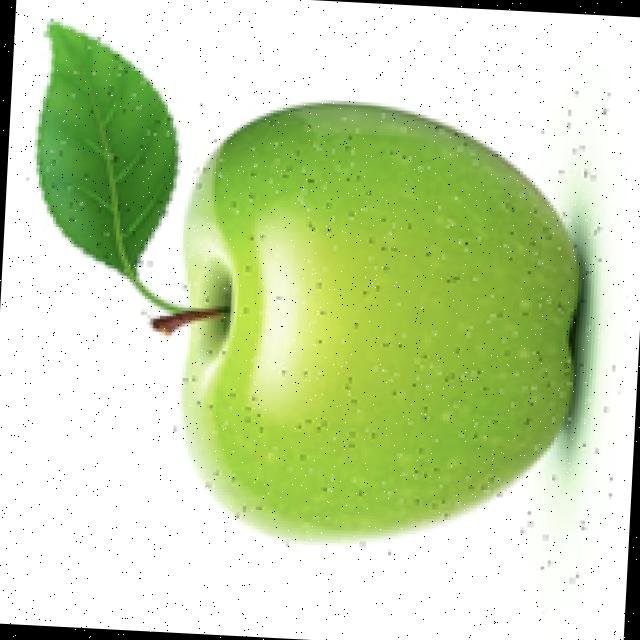apple: (138, 98, 612, 554), (24, 17, 182, 281)
